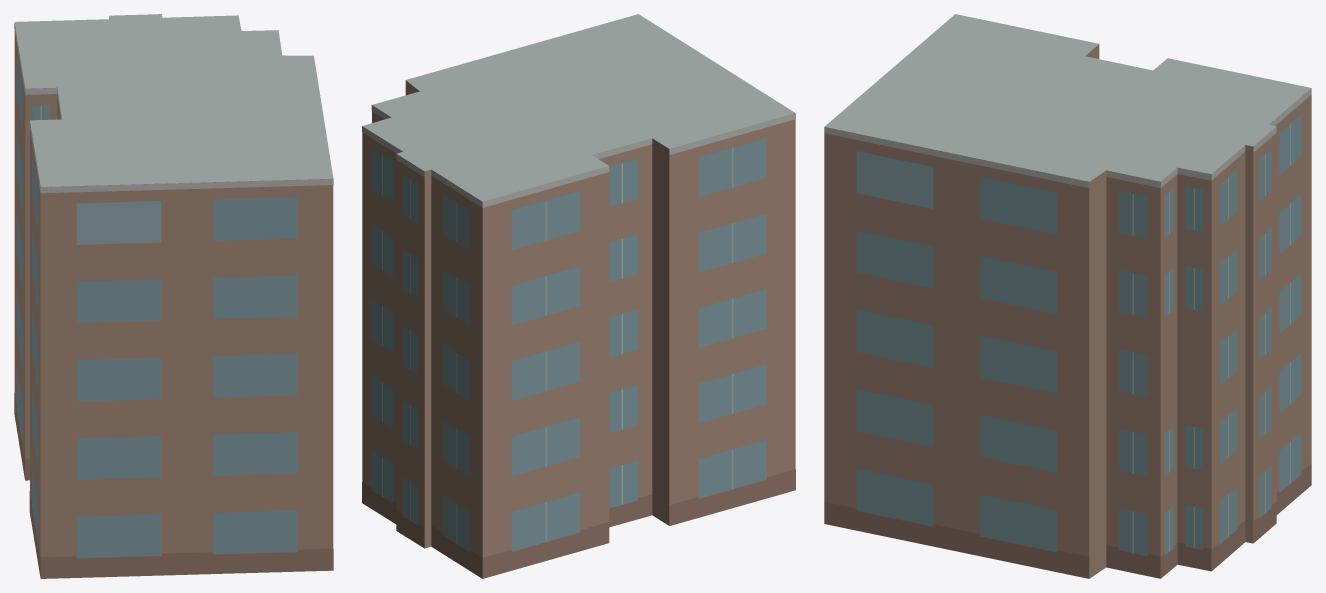
The model's file is survey-upis-32525013.glb.
The picture shows the model from 3 angles, left to right: view 1: azimuth 30°, elevation 25°; view 2: azimuth 150°, elevation 25°; view 3: azimuth 270°, elevation 25°; orthographic projection. The views are drawn at different scales.
Visible parts, largest first — view 1: survey-upis-32525013.tmp; view 2: survey-upis-32525013.tmp; view 3: survey-upis-32525013.tmp.
Boxes of the visible parts, <box> form: survey-upis-32525013.tmp: <box>14,14,333,578</box>; survey-upis-32525013.tmp: <box>362,14,795,578</box>; survey-upis-32525013.tmp: <box>824,14,1311,578</box>.
Bounding box in the file's own units: 13.79 × 15.2 × 16.92.
